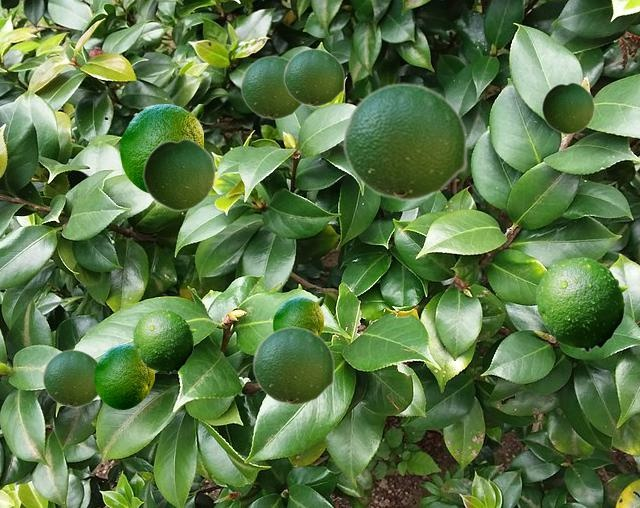dalandan: (342, 82, 467, 201), (536, 257, 627, 351), (120, 104, 202, 192), (252, 326, 334, 405), (142, 137, 215, 211), (240, 55, 302, 119), (133, 309, 195, 373), (94, 344, 153, 408), (283, 48, 344, 106), (42, 349, 97, 407), (541, 81, 594, 134), (273, 297, 322, 335)
